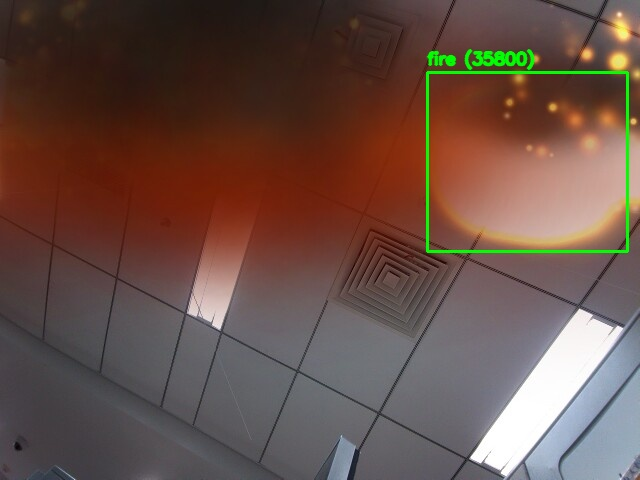fire: (427, 72, 627, 251)
